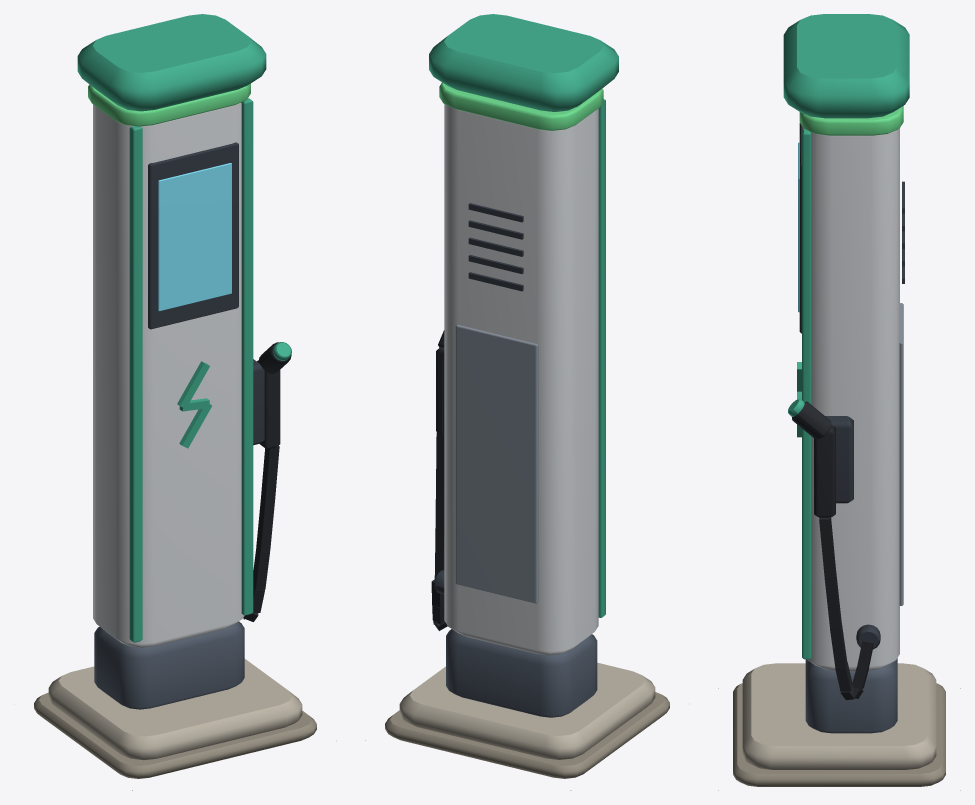
File: borne_recharge.glb
3 views of the same model, side by side, from view 1: azimuth 30°, elevation 25°; view 2: azimuth 150°, elevation 25°; view 3: azimuth 270°, elevation 25° (orthographic). The views are drawn at different scales.
Parts seen in each view (by area): view 1: pieces_av_blanc.004, pieces_av_vert.004, pieces_av_socle.002, voyant_ecran_av_ecran.004, pieces_av_sombre.006, pieces_av_fonce.006, pieces_av_socle_sombre.002, pieces_av_cable.004, voyant_charge_av_voyant_vert.002; view 2: pieces_av_blanc.004, pieces_av_gris.004, pieces_av_vert.004, pieces_av_socle.002, pieces_av_sombre.006, pieces_av_socle_sombre.002, voyant_charge_av_voyant_vert.002, pieces_av_fonce.006, pieces_av_cable.004; view 3: pieces_av_blanc.004, pieces_av_vert.004, pieces_av_socle.002, pieces_av_cable.004, pieces_av_socle_sombre.002, pieces_av_sombre.006, pieces_av_fonce.006, voyant_charge_av_voyant_vert.002, pieces_av_gris.004.
Part boxes in pixels (bbox=[...]): pieces_av_blanc.004: bbox=[93, 102, 244, 647]; pieces_av_vert.004: bbox=[77, 14, 291, 642]; pieces_av_socle.002: bbox=[48, 659, 302, 760]; voyant_ecran_av_ecran.004: bbox=[158, 163, 231, 311]; pieces_av_sombre.006: bbox=[94, 621, 244, 709]; pieces_av_fonce.006: bbox=[148, 142, 264, 445]; pieces_av_socle_sombre.002: bbox=[34, 692, 316, 778]; pieces_av_cable.004: bbox=[243, 342, 291, 621]; voyant_charge_av_voyant_vert.002: bbox=[88, 83, 250, 126]; pieces_av_blanc.004: bbox=[444, 104, 598, 655]; pieces_av_gris.004: bbox=[455, 325, 538, 603]; pieces_av_vert.004: bbox=[429, 14, 618, 617]; pieces_av_socle.002: bbox=[399, 662, 655, 759]; pieces_av_sombre.006: bbox=[446, 629, 597, 717]; pieces_av_socle_sombre.002: bbox=[385, 692, 669, 778]; voyant_charge_av_voyant_vert.002: bbox=[439, 82, 603, 130]; pieces_av_fonce.006: bbox=[434, 203, 523, 594]; pieces_av_cable.004: bbox=[431, 330, 447, 630]; pieces_av_blanc.004: bbox=[803, 128, 899, 670]; pieces_av_vert.004: bbox=[783, 14, 909, 659]; pieces_av_socle.002: bbox=[742, 663, 936, 769]; pieces_av_cable.004: bbox=[792, 401, 873, 700]; pieces_av_socle_sombre.002: bbox=[733, 683, 945, 786]; pieces_av_sombre.006: bbox=[805, 658, 897, 733]; pieces_av_fonce.006: bbox=[799, 123, 904, 649]; voyant_charge_av_voyant_vert.002: bbox=[799, 106, 903, 135]; pieces_av_gris.004: bbox=[899, 303, 903, 605].
Size of the model in its own units: 0.5 by 1.58 by 0.5.
